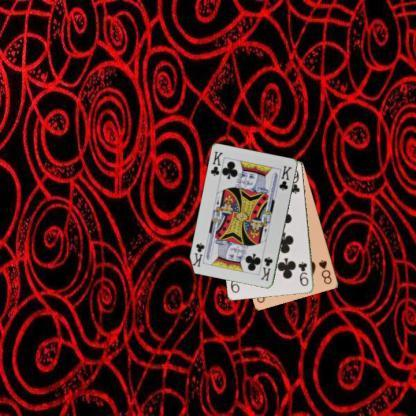8s: (315, 257, 334, 286)
9c: (296, 260, 310, 287)
Kc: (208, 148, 224, 178), (258, 254, 274, 282)
